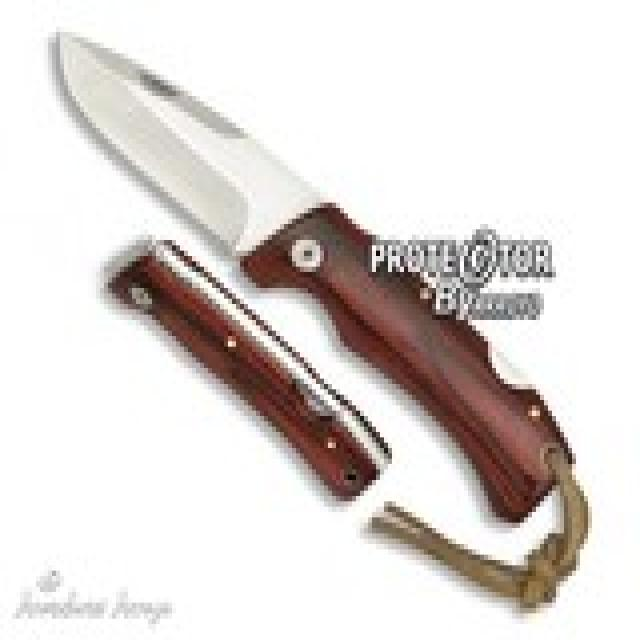Knife: (42, 26, 604, 600)
